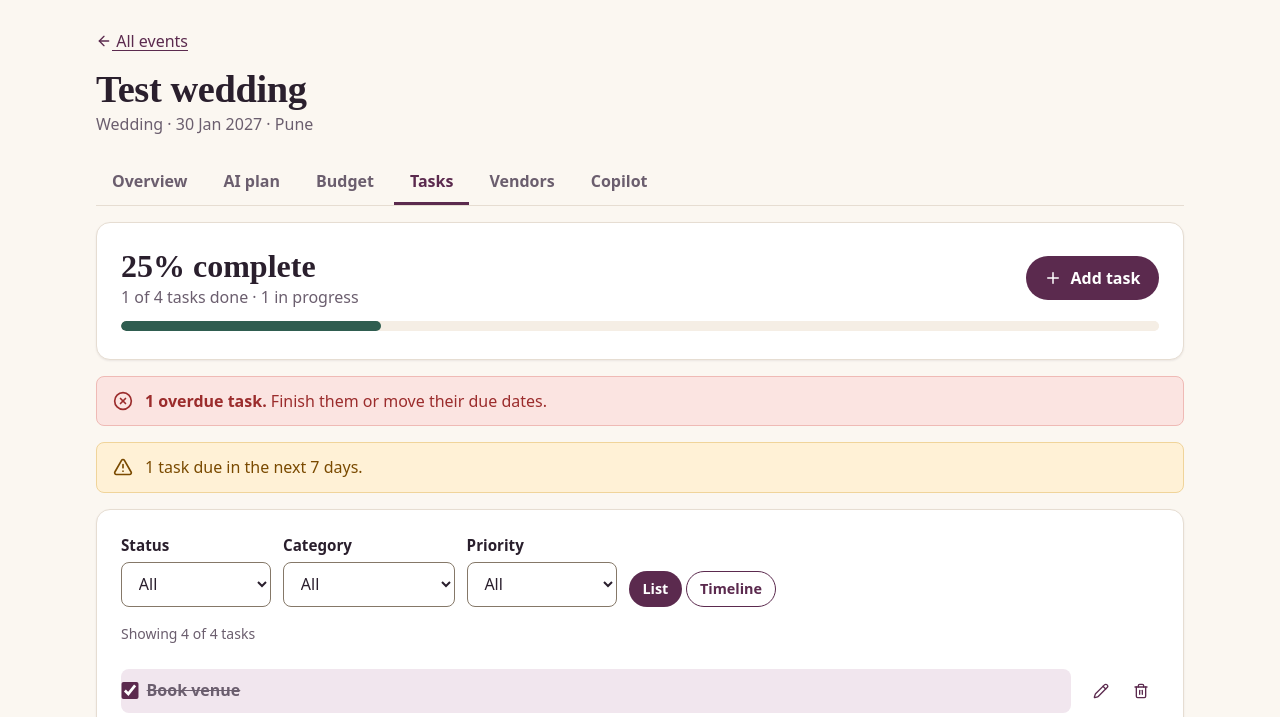
Test: Tasks tab › filters by status and priority and reports the count
Expected: the text "Showing 4 of 4 tasks" is shown, 121,624 -> 255,643
Select "Pending" in the dropdown labelled "Status": (196, 584) 121,562 -> 271,607
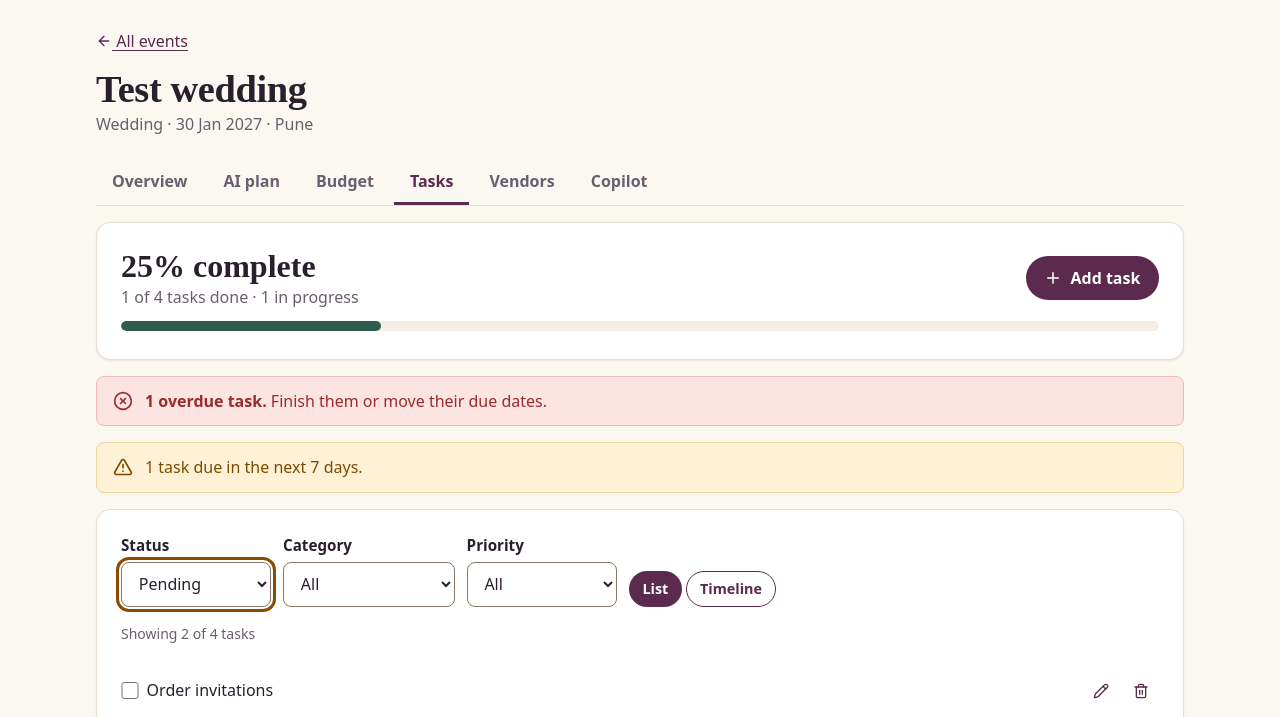
Now the text "Showing 2 of 4 tasks" is shown, box 121,624 -> 255,643
Now the text "Book venue" is gone
Select "Low" in the dropdown labelled "Priority": (542, 584) 467,562 -> 617,607
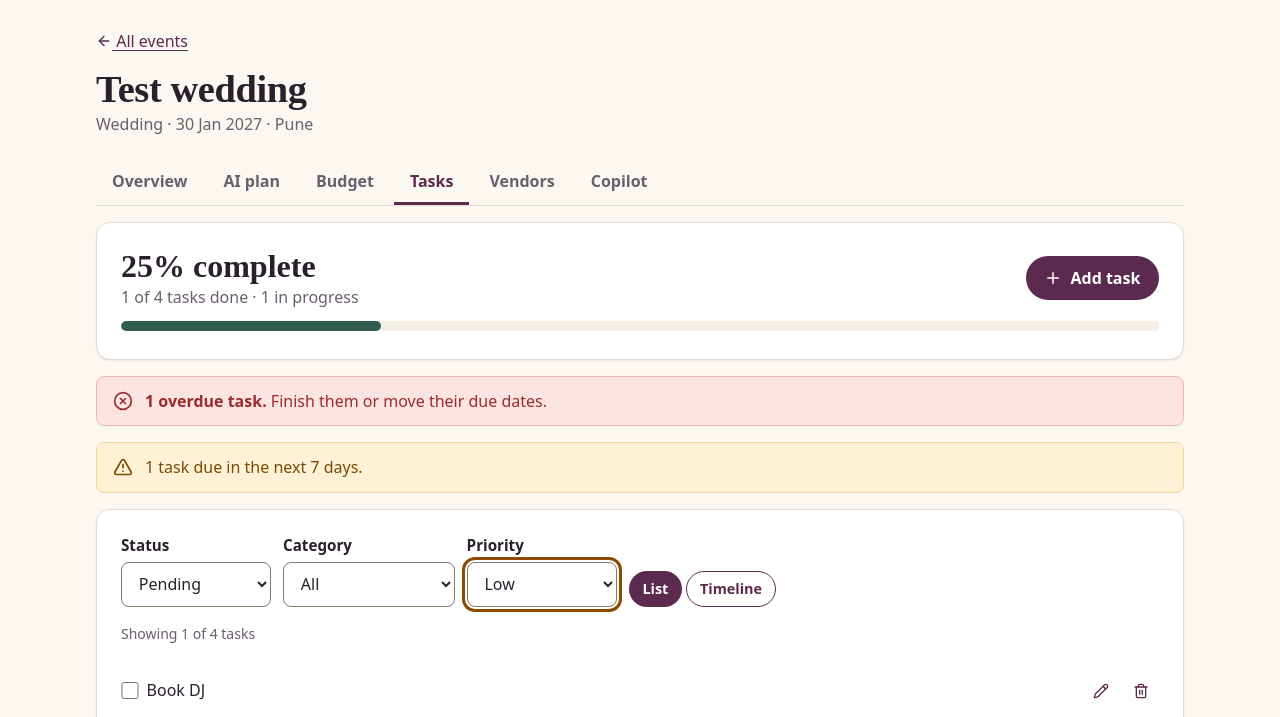
Expected: the text "Book DJ" is shown, 147,678 -> 205,703
Now the text "Showing 1 of 4 tasks" is shown, box 121,624 -> 255,643
Select "Venue" in the dropdown labelled "Category": (369, 584) 283,562 -> 455,607
(page scrolled)
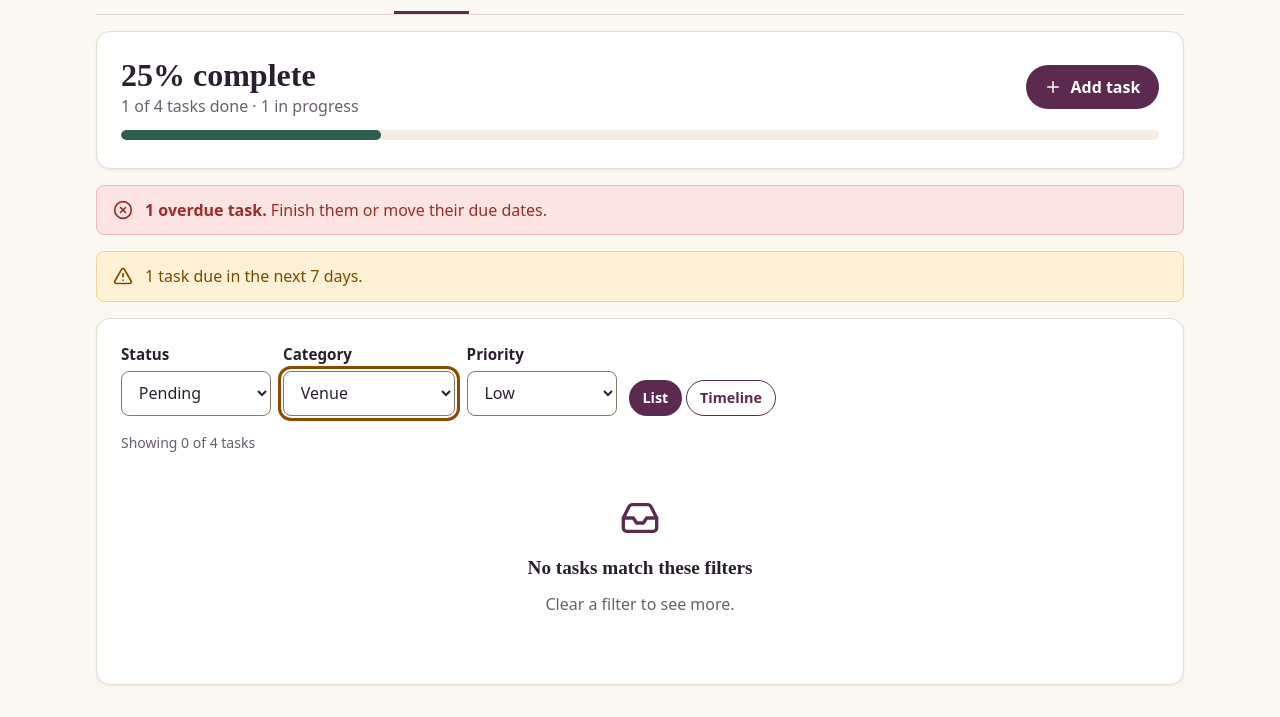
Now the heading "No tasks match these filters" is shown, box 528,558 -> 752,578
